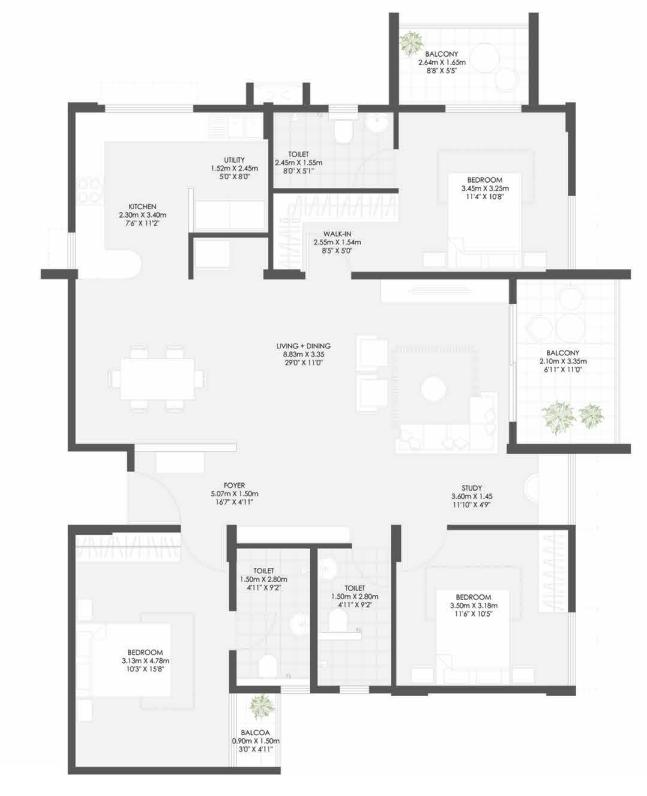Balcony: (518, 273, 619, 444), (396, 26, 530, 110)
Bed: (440, 170, 530, 268), (435, 589, 511, 686), (75, 620, 173, 693), (381, 280, 511, 302)
Bedroom: (78, 531, 232, 765), (396, 110, 573, 270), (398, 533, 571, 691)
Dining Room: (74, 279, 336, 448)
Dining table: (110, 340, 202, 413)
Foyer: (128, 455, 389, 529)
Kitchen: (80, 113, 190, 271)
Living Room: (334, 281, 510, 456)
Sofa: (399, 422, 491, 454), (355, 337, 389, 411), (470, 387, 494, 453), (420, 374, 449, 407)
Wardrobe: (269, 194, 393, 224), (77, 535, 184, 563), (269, 192, 305, 275), (537, 530, 567, 617)
balcoa: (231, 692, 279, 768)
commode: (334, 121, 355, 146), (329, 609, 348, 633), (259, 656, 277, 681)
door: (126, 470, 183, 530), (185, 529, 229, 567)
fridge: (195, 238, 229, 271)
sink: (209, 115, 263, 141), (290, 613, 310, 637), (365, 114, 389, 133), (318, 559, 338, 579)
stove: (76, 175, 102, 205)
study: (389, 458, 574, 528)
toilet: (232, 546, 310, 691), (316, 548, 390, 689), (274, 116, 393, 189)
utility: (192, 115, 268, 237)
walkin: (274, 194, 393, 274)
washing-machine: (195, 198, 265, 230)
